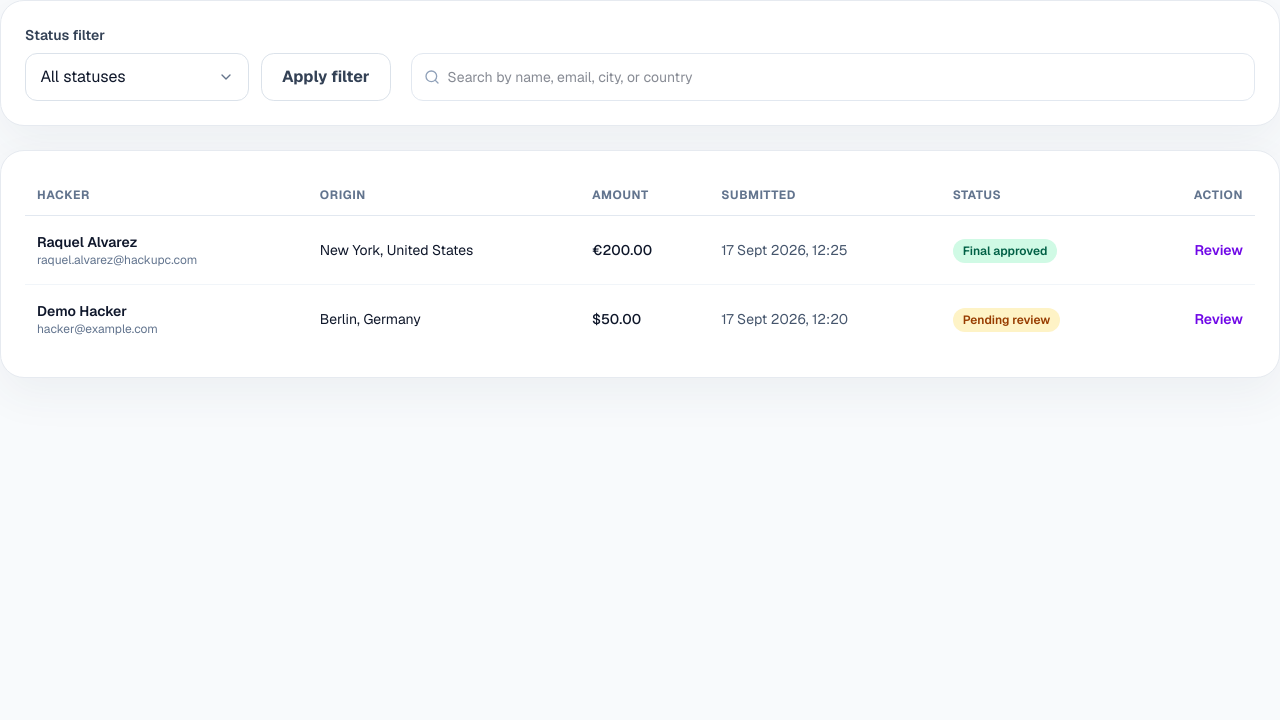
Test case: TravelReimbursementsTable › shows an empty state message with the query when nothing matches
Step 1. Type "nobody-matches-this" into the search field named "Search travel reimbursements by name, email, city, or country" → (845, 77), box x1=448 y1=54 x2=1242 y2=100
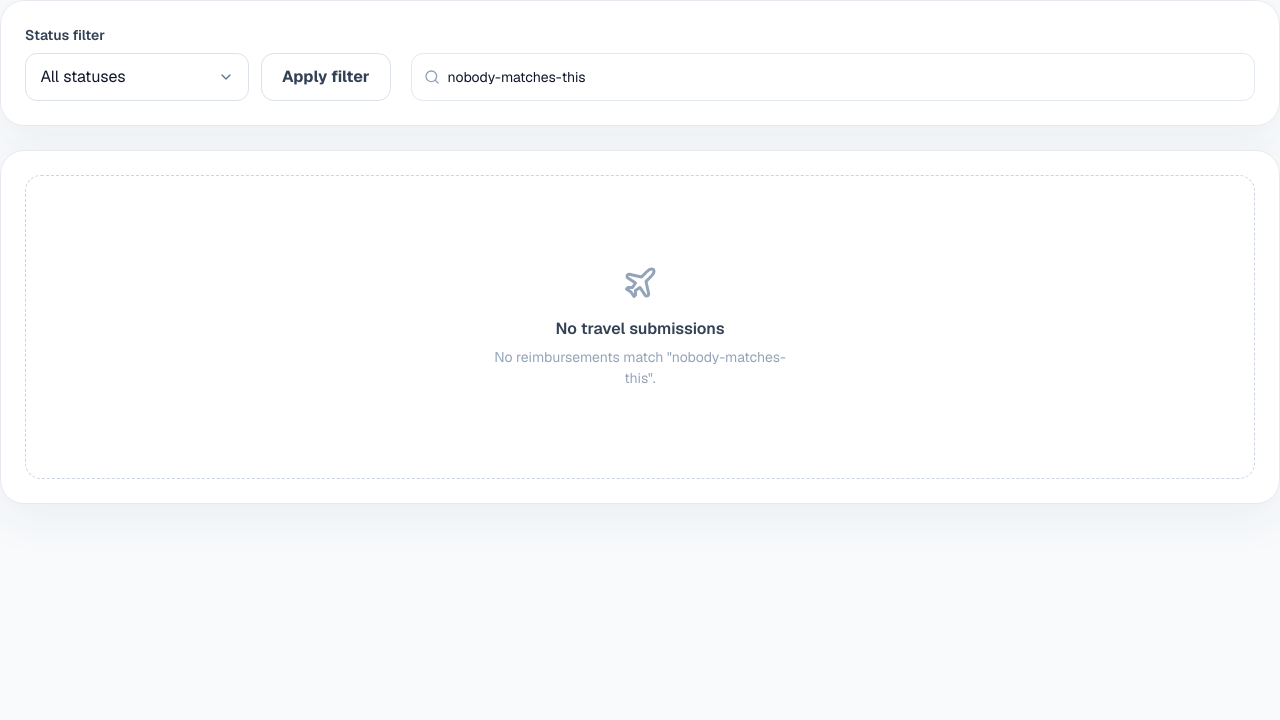
expect the text "No reimbursements match \"nobody-matches-this\"." is shown: met, box x1=488 y1=347 x2=792 y2=389
